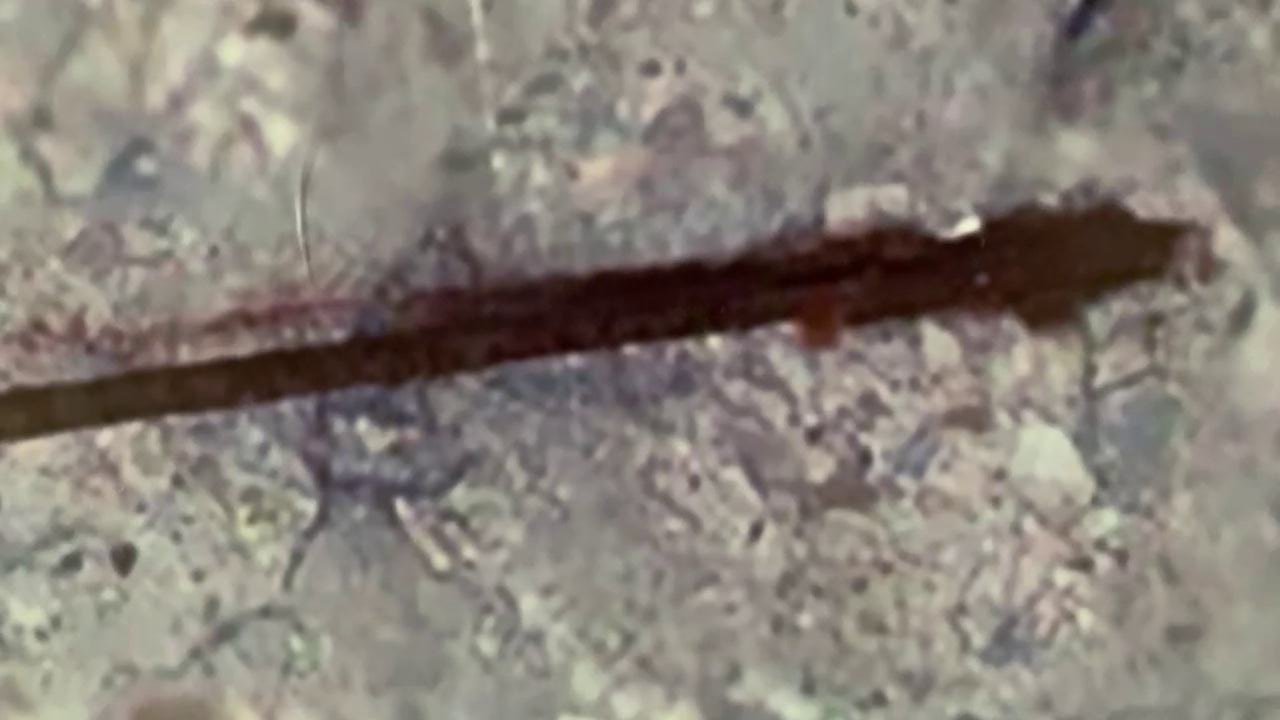Exposed reinforcement: (1, 199, 1202, 445)
